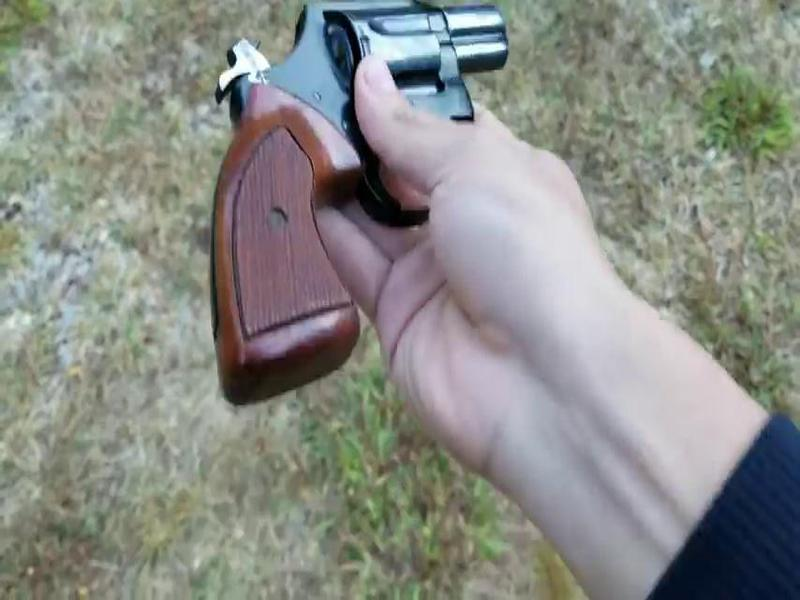Revolver: (189, 4, 532, 413)
